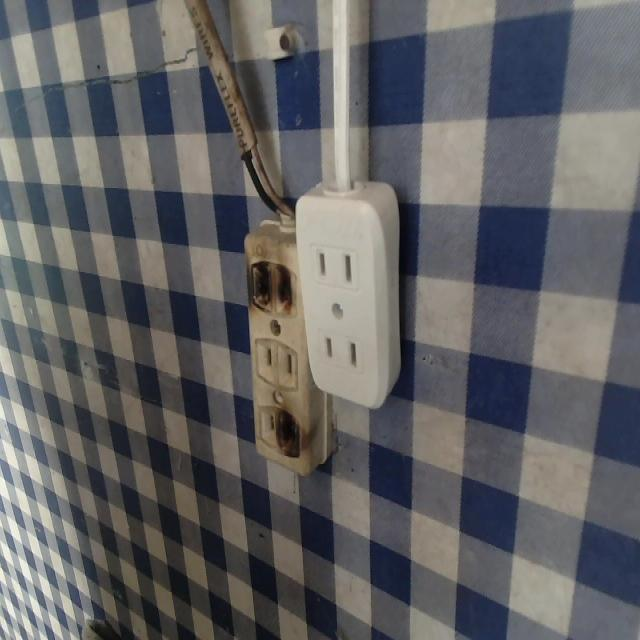-: (242, 257, 300, 320), (273, 399, 304, 461)
